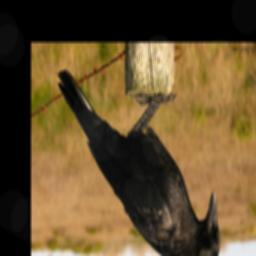Crow: (55, 68, 220, 256)
